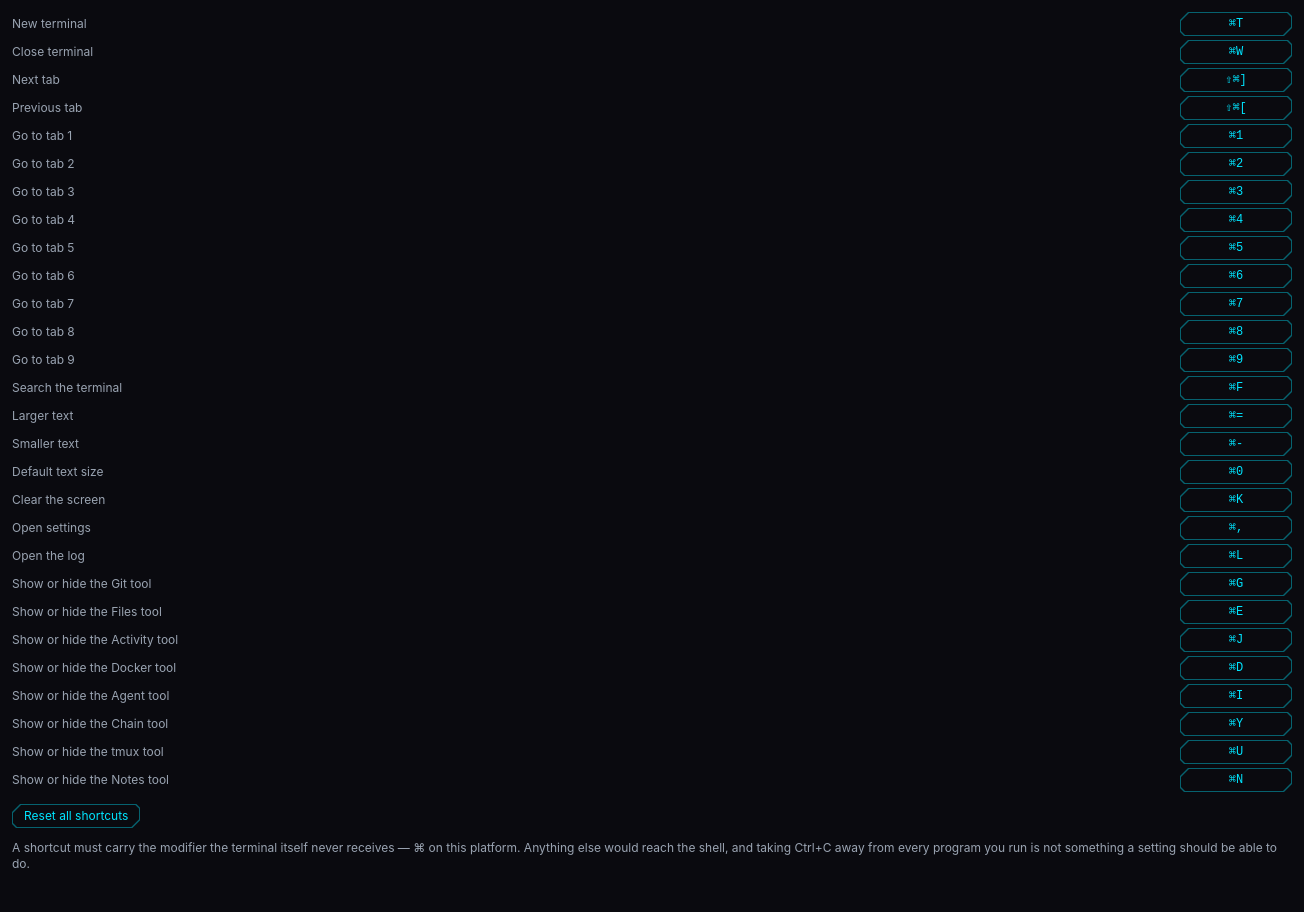
Test: ShortcutEditor › refuses a combination the shell needs, and says which one to use
Click the button named "New terminal" at (1236, 24), box [1180,12,1292,36]
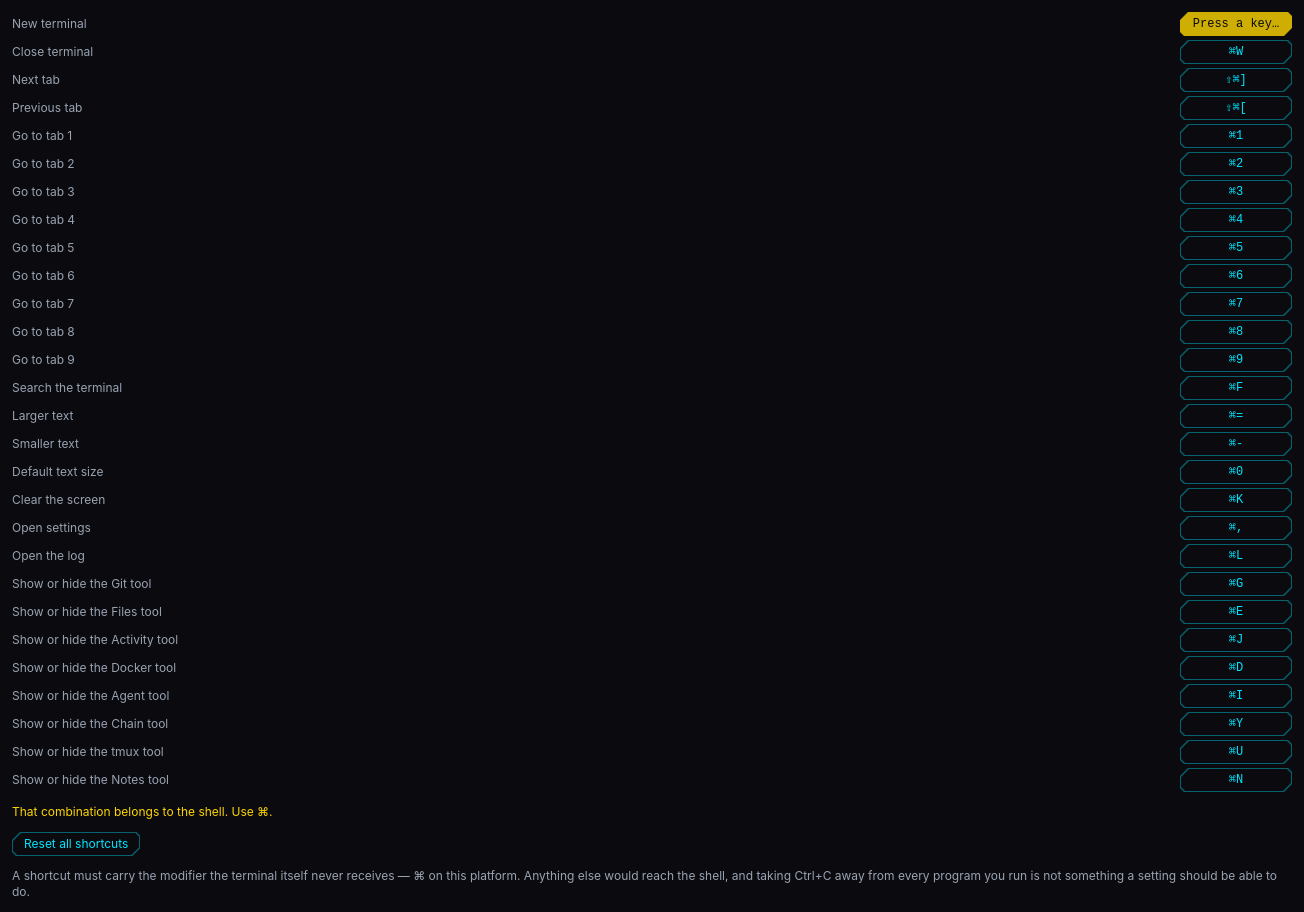
Check: the text "That combination belongs to the shell. Use ⌘." is shown, box [12,804,273,819]
